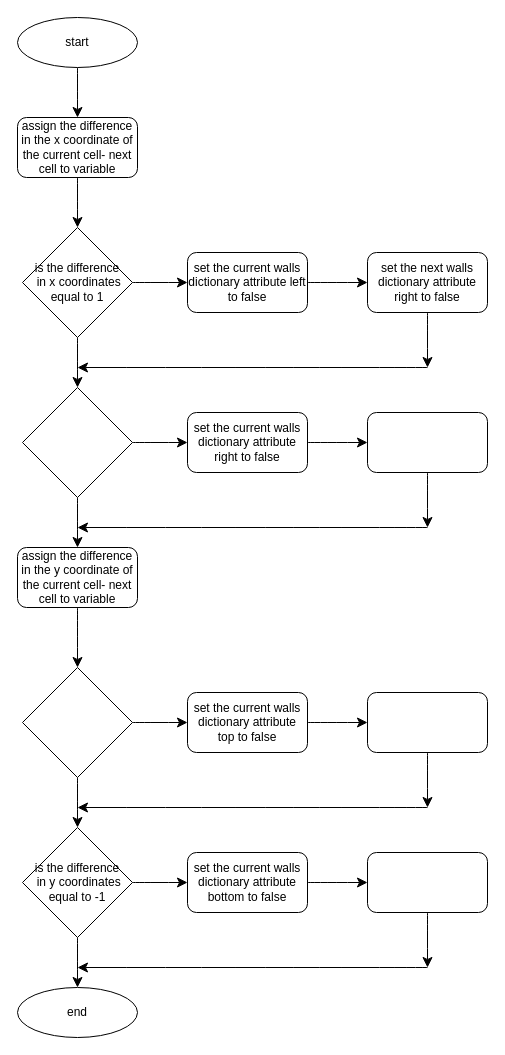
Some shapes in this 505 by 1055 pixel diagram are drawn without their labels. Each missing label, with the centre of its shape:
is the difference in x coordinates equal to -1: pixel 77 442
is the difference in y coordinates equal to 1: pixel 77 722
set the next walls dictionary attribute bottom to false: pixel 427 722
set the next walls dictionary attribute left to false: pixel 427 442
set the next walls dictionary attribute top to false: pixel 427 882
